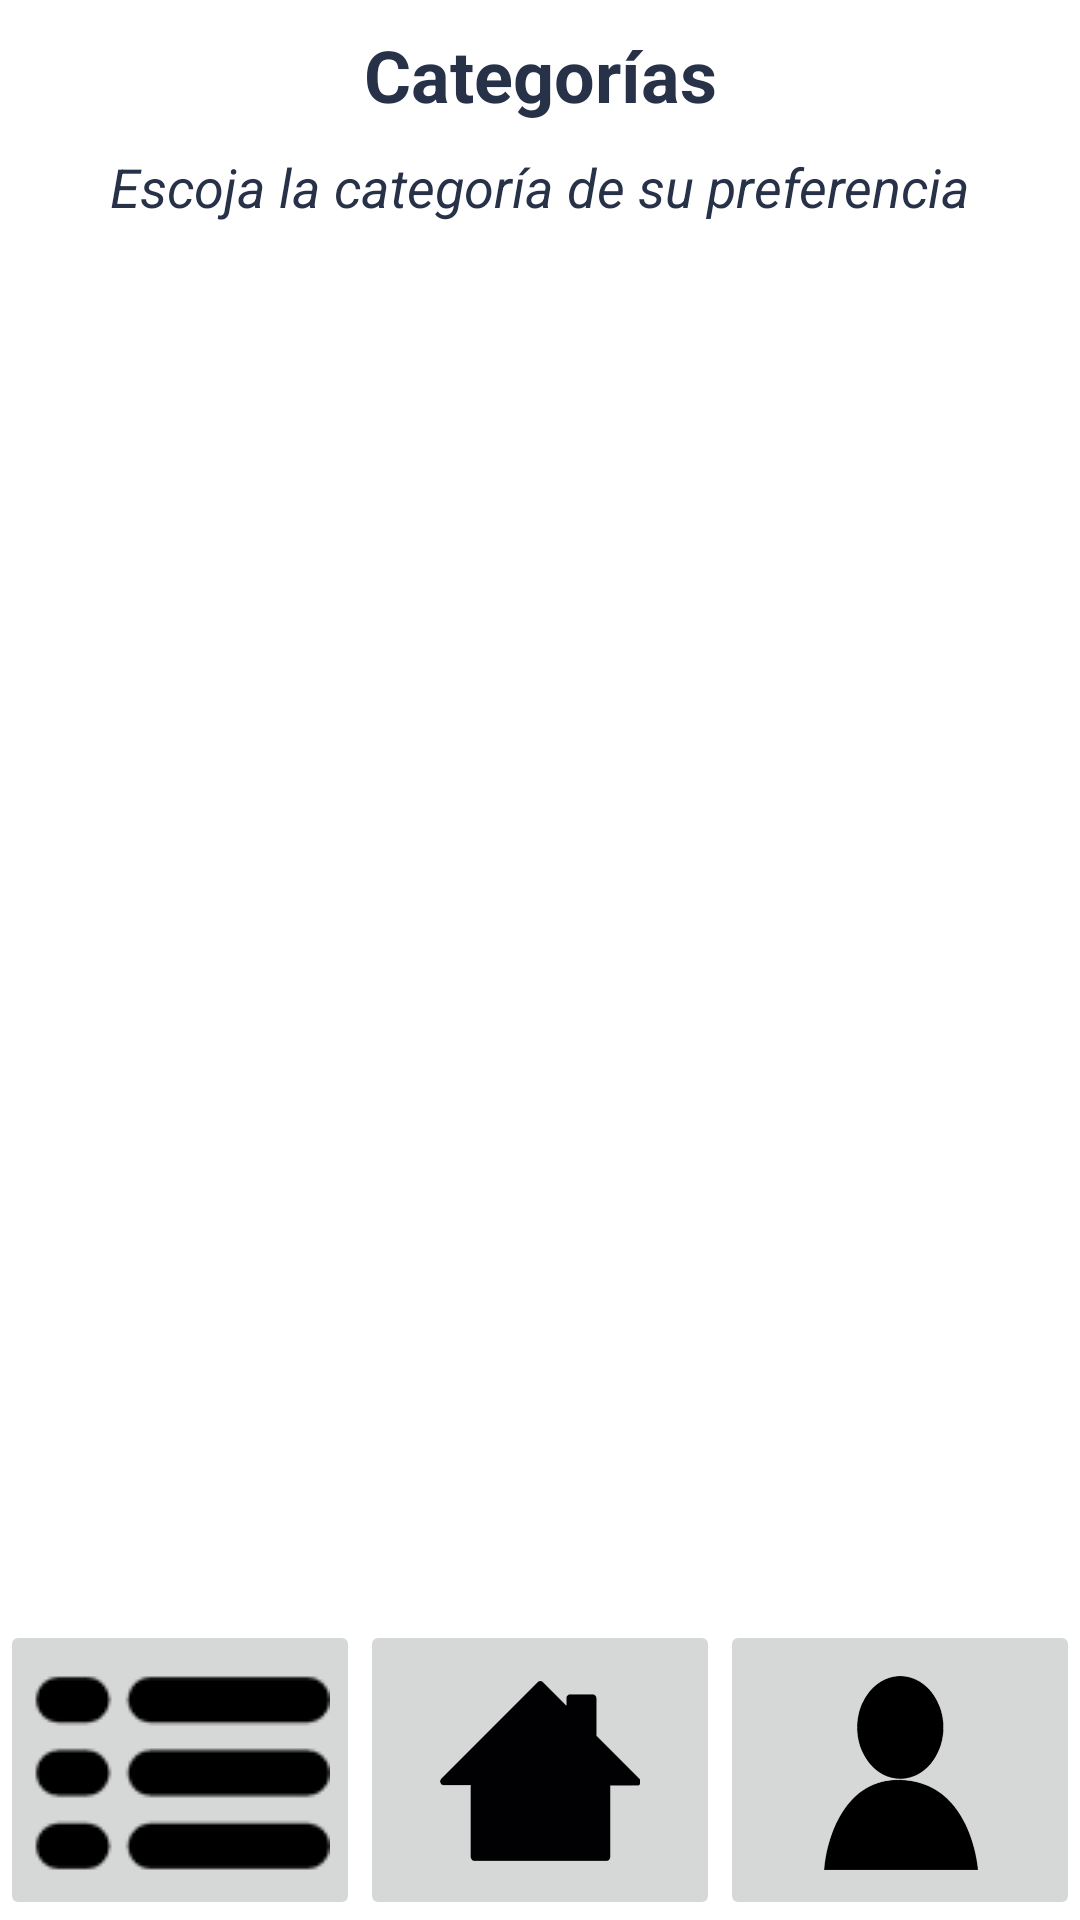

Screen size 1080w x 1920h. Icon name, then its box in pixels as rect(x1, y1, x2, y2):
categoria: rect(12, 1638, 348, 1902)
home: rect(372, 1638, 708, 1902)
perfil: rect(732, 1638, 1068, 1902)
